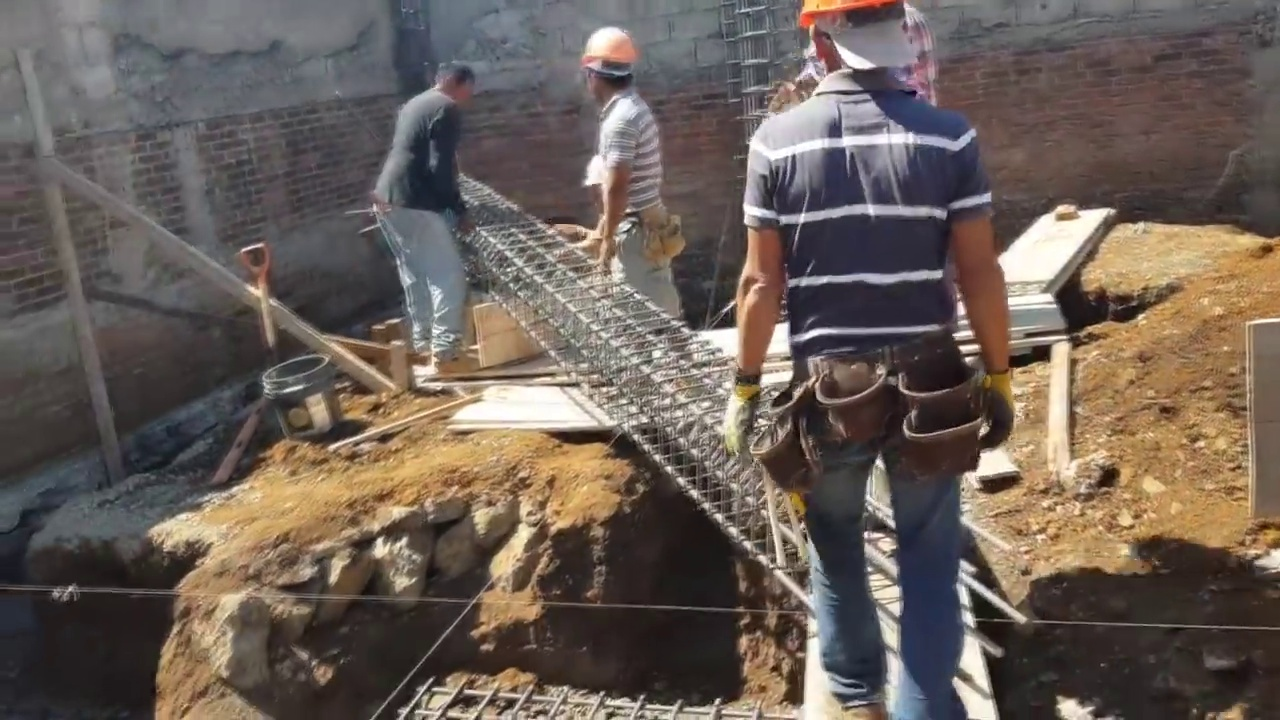helmet: (577, 26, 639, 76)
helmet-off: (429, 54, 476, 104)
helmet-on: (789, 0, 929, 94), (582, 25, 642, 106)
person: (716, 0, 1033, 720), (375, 54, 478, 384), (574, 15, 671, 315)
